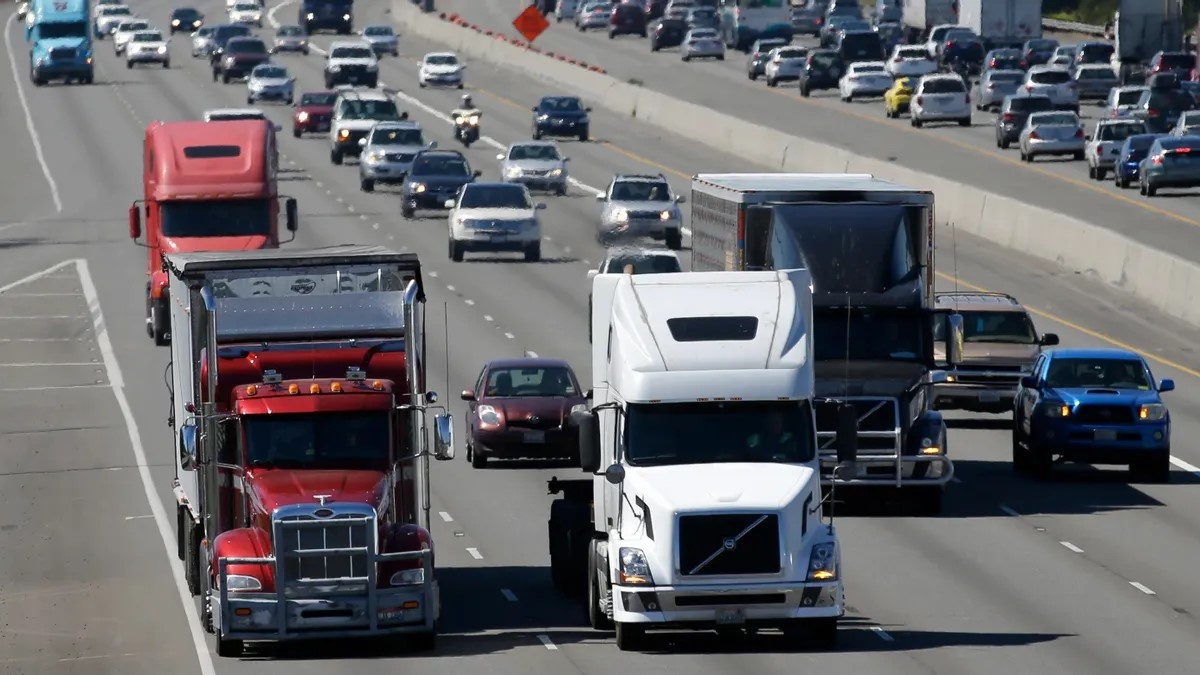HeavyVehicle: (158, 250, 457, 661), (581, 263, 849, 644)
